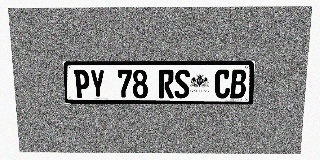7: (117, 70, 132, 98)
8: (132, 70, 148, 98)
B: (230, 69, 247, 98)
C: (214, 70, 231, 98)
P: (74, 70, 90, 98)
R: (159, 70, 174, 98)
S: (174, 70, 190, 98)
Y: (89, 70, 105, 98)
